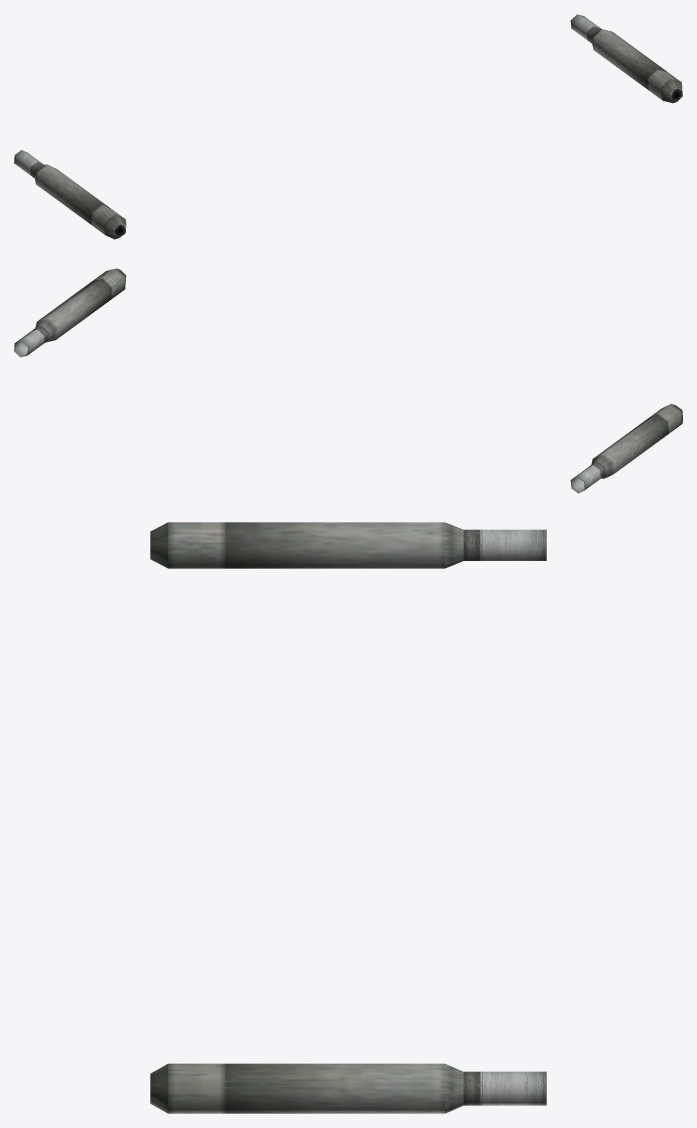
Rendered from hutt_fighter_medium_weapon1_s05_l1.fbx.
3 views of the same model, one above another, from view 1: azimuth 30°, elevation 25°; view 2: azimuth 150°, elevation 25°; view 3: azimuth 270°, elevation 25° (orthographic). The views are drawn at different scales.
Visible parts, largest first — view 1: mesh_node; view 2: mesh_node; view 3: mesh_node.
Part boxes in pixels (x1,y1,x2,y2): mesh_node: [14, 14, 682, 239]; mesh_node: [14, 268, 682, 493]; mesh_node: [150, 522, 546, 1113].
Size of the model in its own units: 3.12 by 0.1245 by 0.9268.
Materials: 1 (1 with a texture image).
